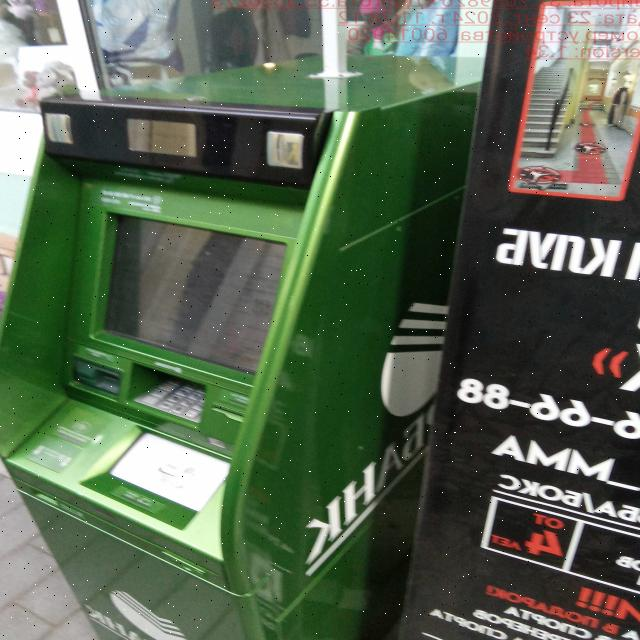bank: (0, 55, 502, 640)
